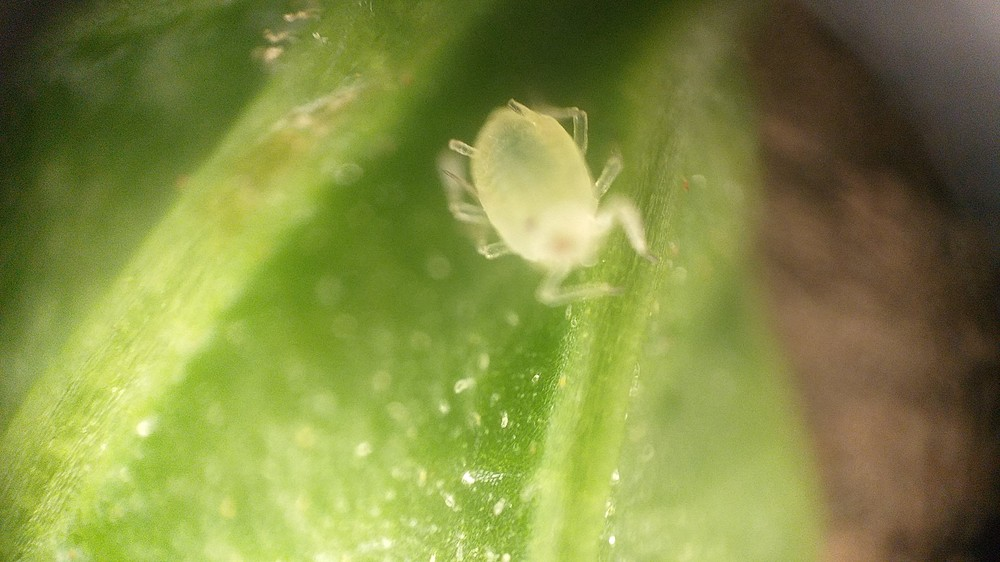Pulgon: (398, 85, 678, 322)
